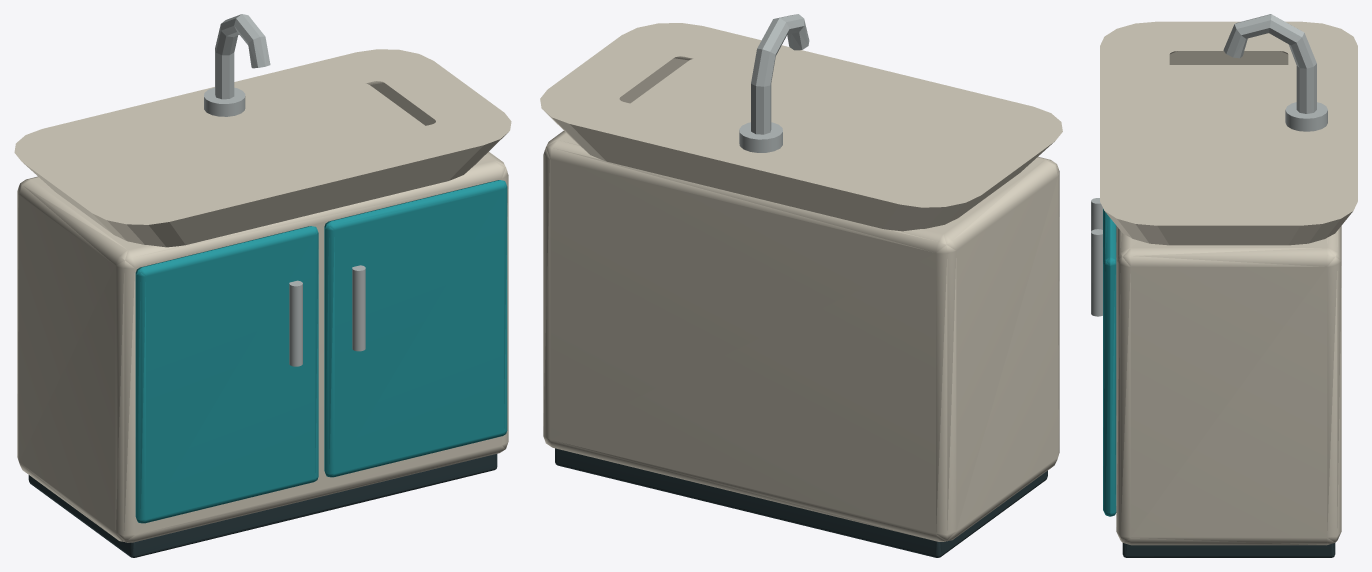
The model's file is 13_standard_washstand.glb.
3 views of the same model, side by side, from view 1: azimuth 30°, elevation 25°; view 2: azimuth 150°, elevation 25°; view 3: azimuth 270°, elevation 25° (orthographic). The views are drawn at different scales.
Visible parts, largest first — view 1: 13_standard_washstand__Static; view 2: 13_standard_washstand__Static; view 3: 13_standard_washstand__Static.
Part boxes in pixels (x1,y1,x2,y2): 13_standard_washstand__Static: [14, 14, 511, 557]; 13_standard_washstand__Static: [540, 14, 1062, 557]; 13_standard_washstand__Static: [1091, 14, 1357, 557].
Size of the model in its own units: 1.18 by 1.22 by 0.652.
